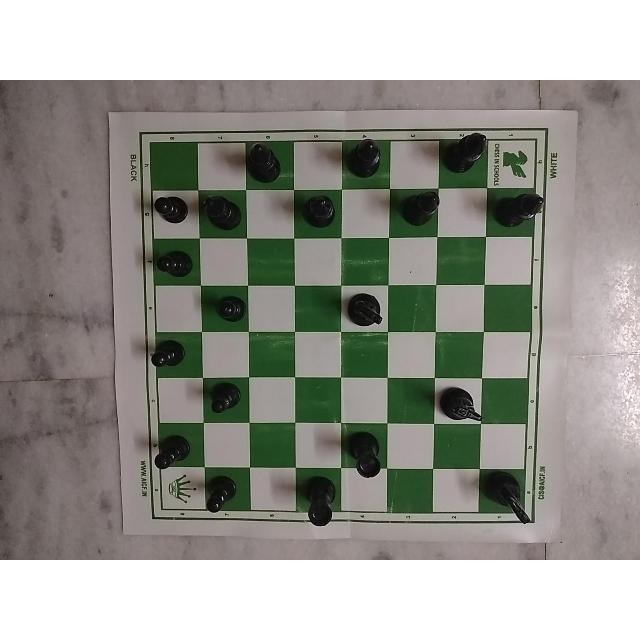black-bishop: (496, 190, 548, 234), (199, 189, 245, 235), (444, 131, 490, 175), (242, 139, 281, 189), (302, 190, 348, 230), (347, 133, 385, 179), (404, 188, 444, 231)
black-knight: (481, 469, 539, 527), (346, 286, 396, 335), (434, 382, 486, 427)
black-pawn: (143, 335, 189, 380), (148, 190, 195, 234), (202, 290, 249, 330), (145, 435, 192, 474), (154, 244, 198, 284), (204, 381, 244, 424), (206, 478, 246, 519)
black-rook: (295, 474, 339, 529), (342, 429, 382, 476)
